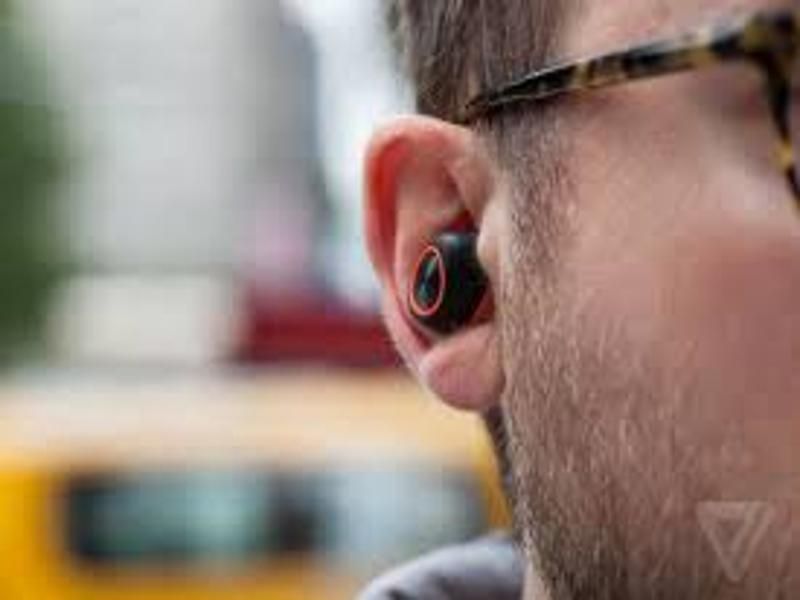headphone: (406, 224, 496, 335)
